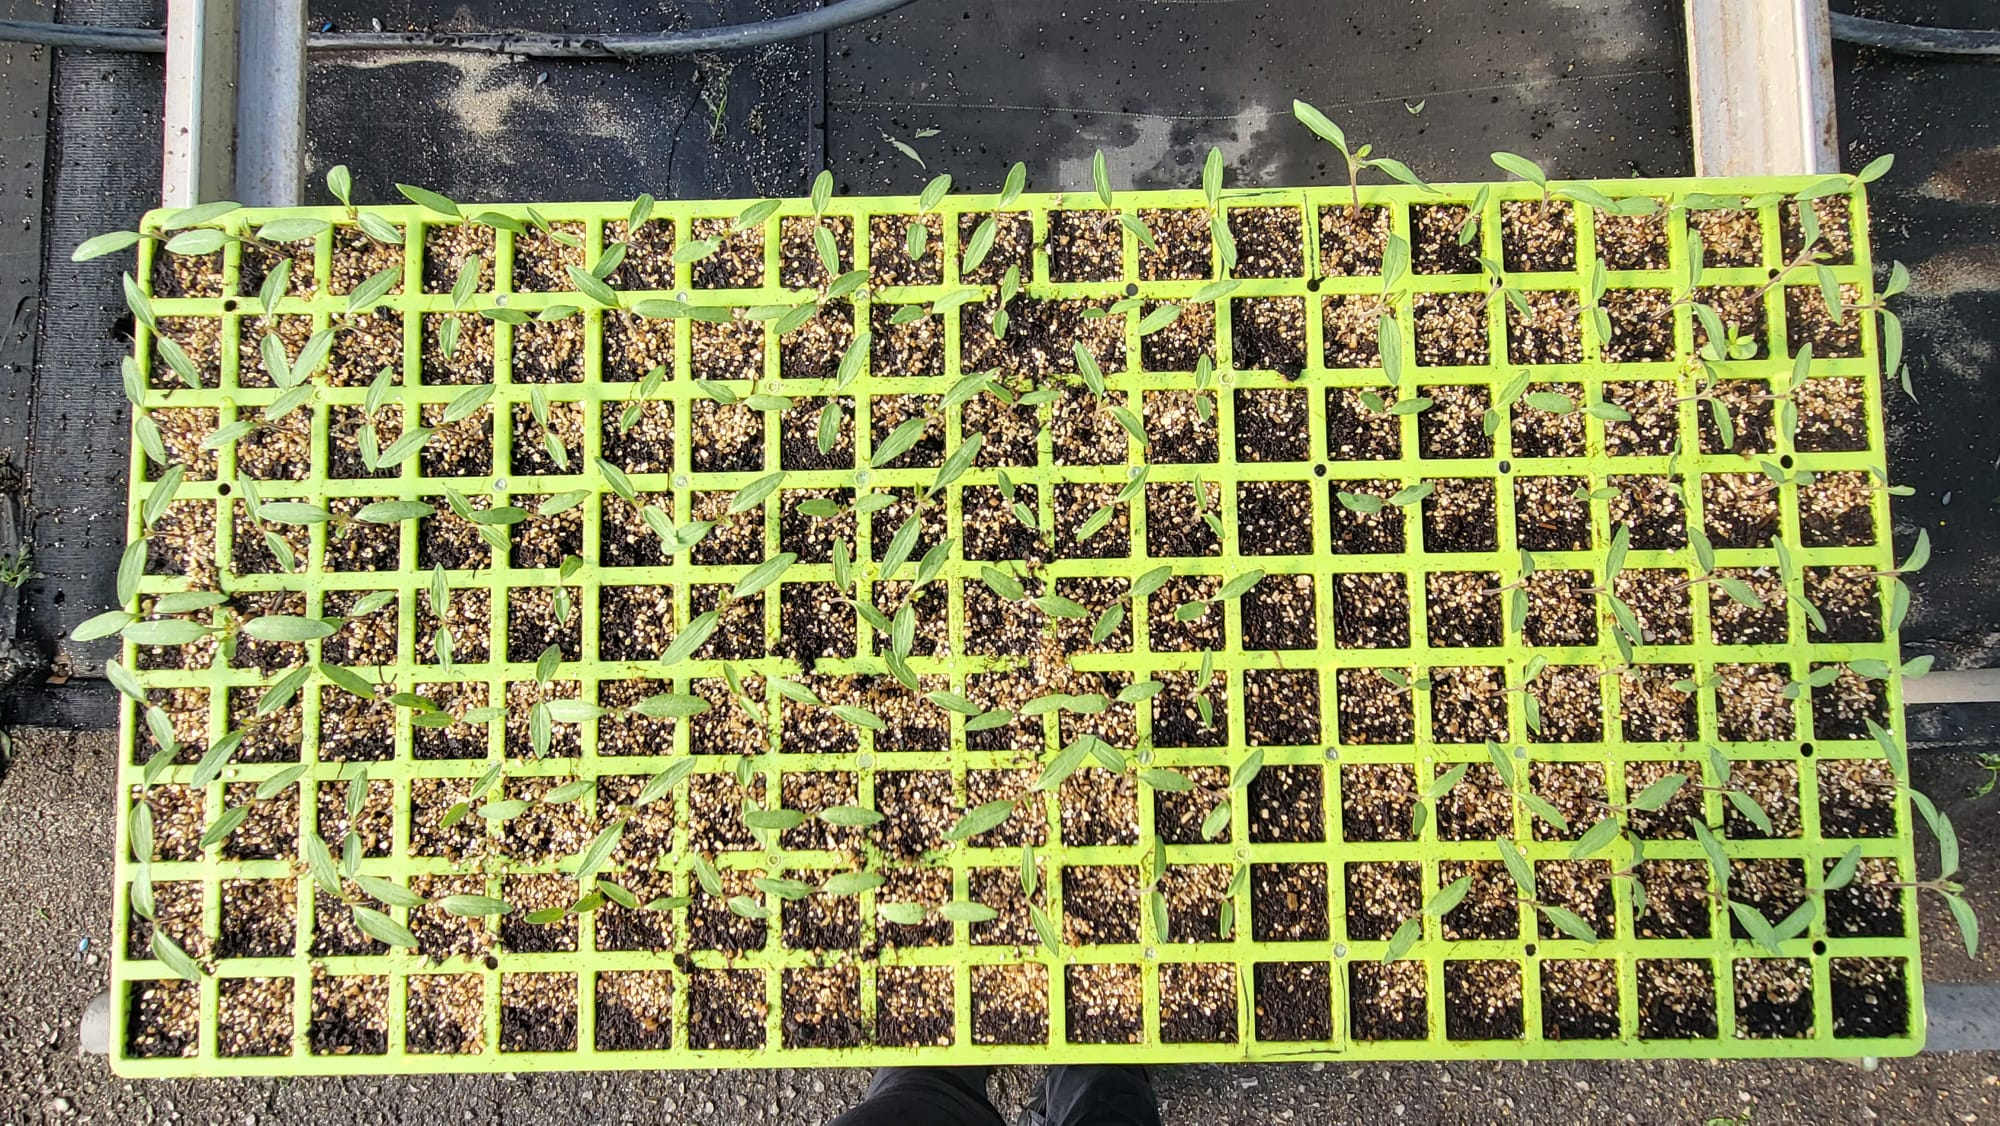Slot: (132, 977, 201, 1062), (223, 977, 292, 1062), (592, 780, 666, 858), (774, 775, 848, 853), (966, 767, 1040, 845), (1148, 767, 1222, 845), (1335, 759, 1409, 837), (1434, 757, 1508, 835), (1621, 757, 1695, 835), (1811, 759, 1885, 837), (405, 974, 474, 1055), (1156, 966, 1225, 1047), (1351, 961, 1420, 1042), (1445, 956, 1514, 1036), (1632, 956, 1701, 1036), (1832, 951, 1901, 1031), (603, 971, 671, 1052), (785, 966, 853, 1047), (975, 966, 1043, 1047), (494, 882, 570, 953), (590, 879, 666, 950), (871, 869, 947, 940), (1063, 869, 1139, 940), (1534, 871, 1610, 942), (1729, 868, 1805, 939), (128, 884, 203, 955), (219, 884, 294, 955), (310, 887, 385, 958), (401, 882, 476, 953), (783, 874, 858, 945), (970, 861, 1045, 932), (1152, 861, 1227, 932), (1251, 861, 1326, 932), (1438, 861, 1513, 932), (1629, 868, 1704, 939), (1829, 863, 1904, 934), (676, 877, 752, 947), (1352, 864, 1428, 934), (237, 412, 311, 483), (328, 414, 402, 485), (419, 409, 493, 480), (783, 401, 857, 472), (874, 396, 948, 467), (1056, 396, 1130, 467), (1243, 388, 1317, 459), (314, 979, 383, 1055), (880, 770, 947, 848), (147, 412, 220, 483), (513, 409, 586, 480), (695, 404, 768, 475), (1324, 386, 1397, 457), (1420, 383, 1493, 454), (1514, 386, 1587, 457), (1602, 383, 1675, 454), (1701, 378, 1774, 449), (1795, 378, 1868, 449), (601, 407, 675, 477), (137, 785, 203, 863), (228, 785, 294, 863), (319, 788, 385, 866), (410, 783, 476, 861), (504, 783, 570, 861), (686, 777, 752, 855), (1073, 770, 1139, 848), (1250, 762, 1316, 840), (1536, 767, 1602, 845), (1733, 759, 1799, 837), (963, 394, 1036, 464), (1145, 394, 1218, 464), (137, 594, 208, 665), (228, 594, 299, 665), (319, 596, 390, 667), (319, 693, 390, 764), (410, 591, 481, 662), (410, 688, 481, 759), (592, 685, 663, 756), (774, 583, 845, 654), (774, 680, 845, 751), (875, 578, 946, 649), (873, 680, 944, 751), (971, 581, 1042, 652), (966, 670, 1037, 741), (1057, 578, 1128, 649), (1055, 680, 1126, 751), (1153, 581, 1224, 652), (1148, 670, 1219, 741), (1244, 570, 1315, 641), (1242, 672, 1313, 743), (1335, 662, 1406, 733), (1429, 570, 1500, 641), (1434, 670, 1505, 741), (1525, 570, 1596, 641), (1525, 670, 1596, 741), (1611, 570, 1682, 641), (1619, 662, 1690, 733), (1710, 570, 1781, 641), (1712, 662, 1783, 733), (1814, 662, 1885, 733), (137, 691, 208, 761), (228, 691, 299, 761), (504, 591, 574, 662), (504, 688, 574, 759), (592, 589, 663, 659), (686, 586, 756, 657), (686, 683, 756, 754), (1341, 573, 1411, 644), (1798, 563, 1869, 633), (142, 506, 213, 575), (233, 506, 304, 575), (597, 501, 668, 570), (690, 498, 761, 567), (958, 488, 1029, 557), (1140, 488, 1211, 557), (1327, 480, 1398, 549), (1509, 480, 1580, 549), (1712, 475, 1783, 544), (608, 312, 672, 388), (702, 309, 766, 385), (788, 309, 852, 385), (1521, 291, 1585, 367), (1700, 283, 1764, 359), (1794, 283, 1858, 359), (878, 966, 947, 1036), (1260, 966, 1329, 1036), (1546, 961, 1615, 1031), (1741, 966, 1810, 1036), (324, 509, 395, 577), (415, 504, 486, 572), (508, 504, 579, 572), (779, 496, 850, 564), (870, 491, 941, 559), (1239, 483, 1310, 551), (1415, 478, 1486, 546), (1608, 478, 1679, 546), (520, 315, 584, 390), (881, 302, 945, 377), (967, 302, 1031, 377), (1063, 302, 1127, 377), (1149, 302, 1213, 377), (1326, 294, 1390, 369), (154, 317, 217, 393), (245, 317, 308, 393), (1425, 291, 1488, 367), (1607, 291, 1670, 367), (507, 974, 575, 1044), (689, 969, 757, 1039), (1052, 491, 1122, 559), (1076, 964, 1144, 1034), (1798, 470, 1868, 538), (336, 320, 399, 395), (427, 315, 490, 390), (1251, 294, 1314, 369), (1235, 211, 1304, 278), (700, 224, 768, 291), (151, 232, 220, 298), (242, 232, 311, 298), (333, 235, 402, 301), (424, 230, 493, 296), (606, 227, 675, 293), (788, 222, 857, 288), (879, 217, 948, 283), (1417, 204, 1486, 270), (1508, 206, 1577, 272), (1599, 204, 1668, 270), (1786, 196, 1855, 262), (518, 230, 586, 296), (960, 214, 1028, 280), (1051, 217, 1119, 283), (1142, 214, 1210, 280), (1329, 206, 1397, 272), (1693, 201, 1761, 267)
